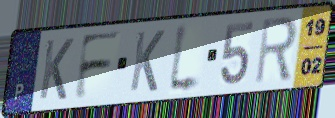5: (219, 20, 257, 87)
F: (71, 29, 124, 103)
K: (127, 28, 167, 94), (37, 36, 76, 102)
L: (166, 20, 204, 97)
R: (253, 14, 300, 86)
